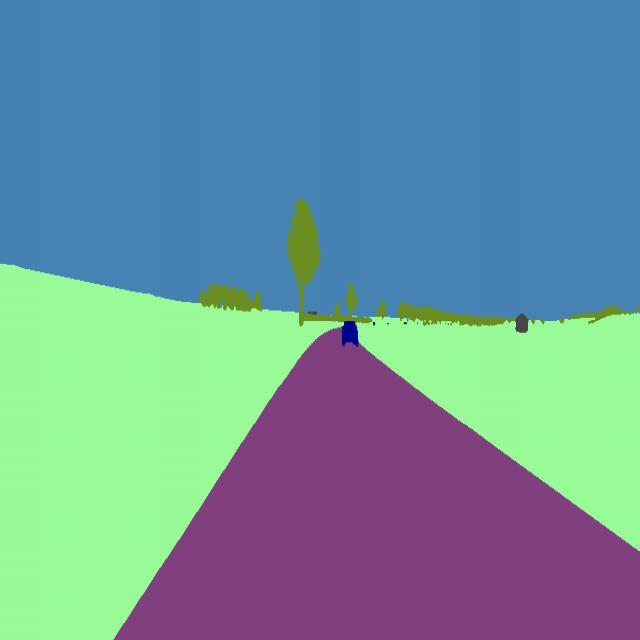safe: (339, 317, 360, 353)
